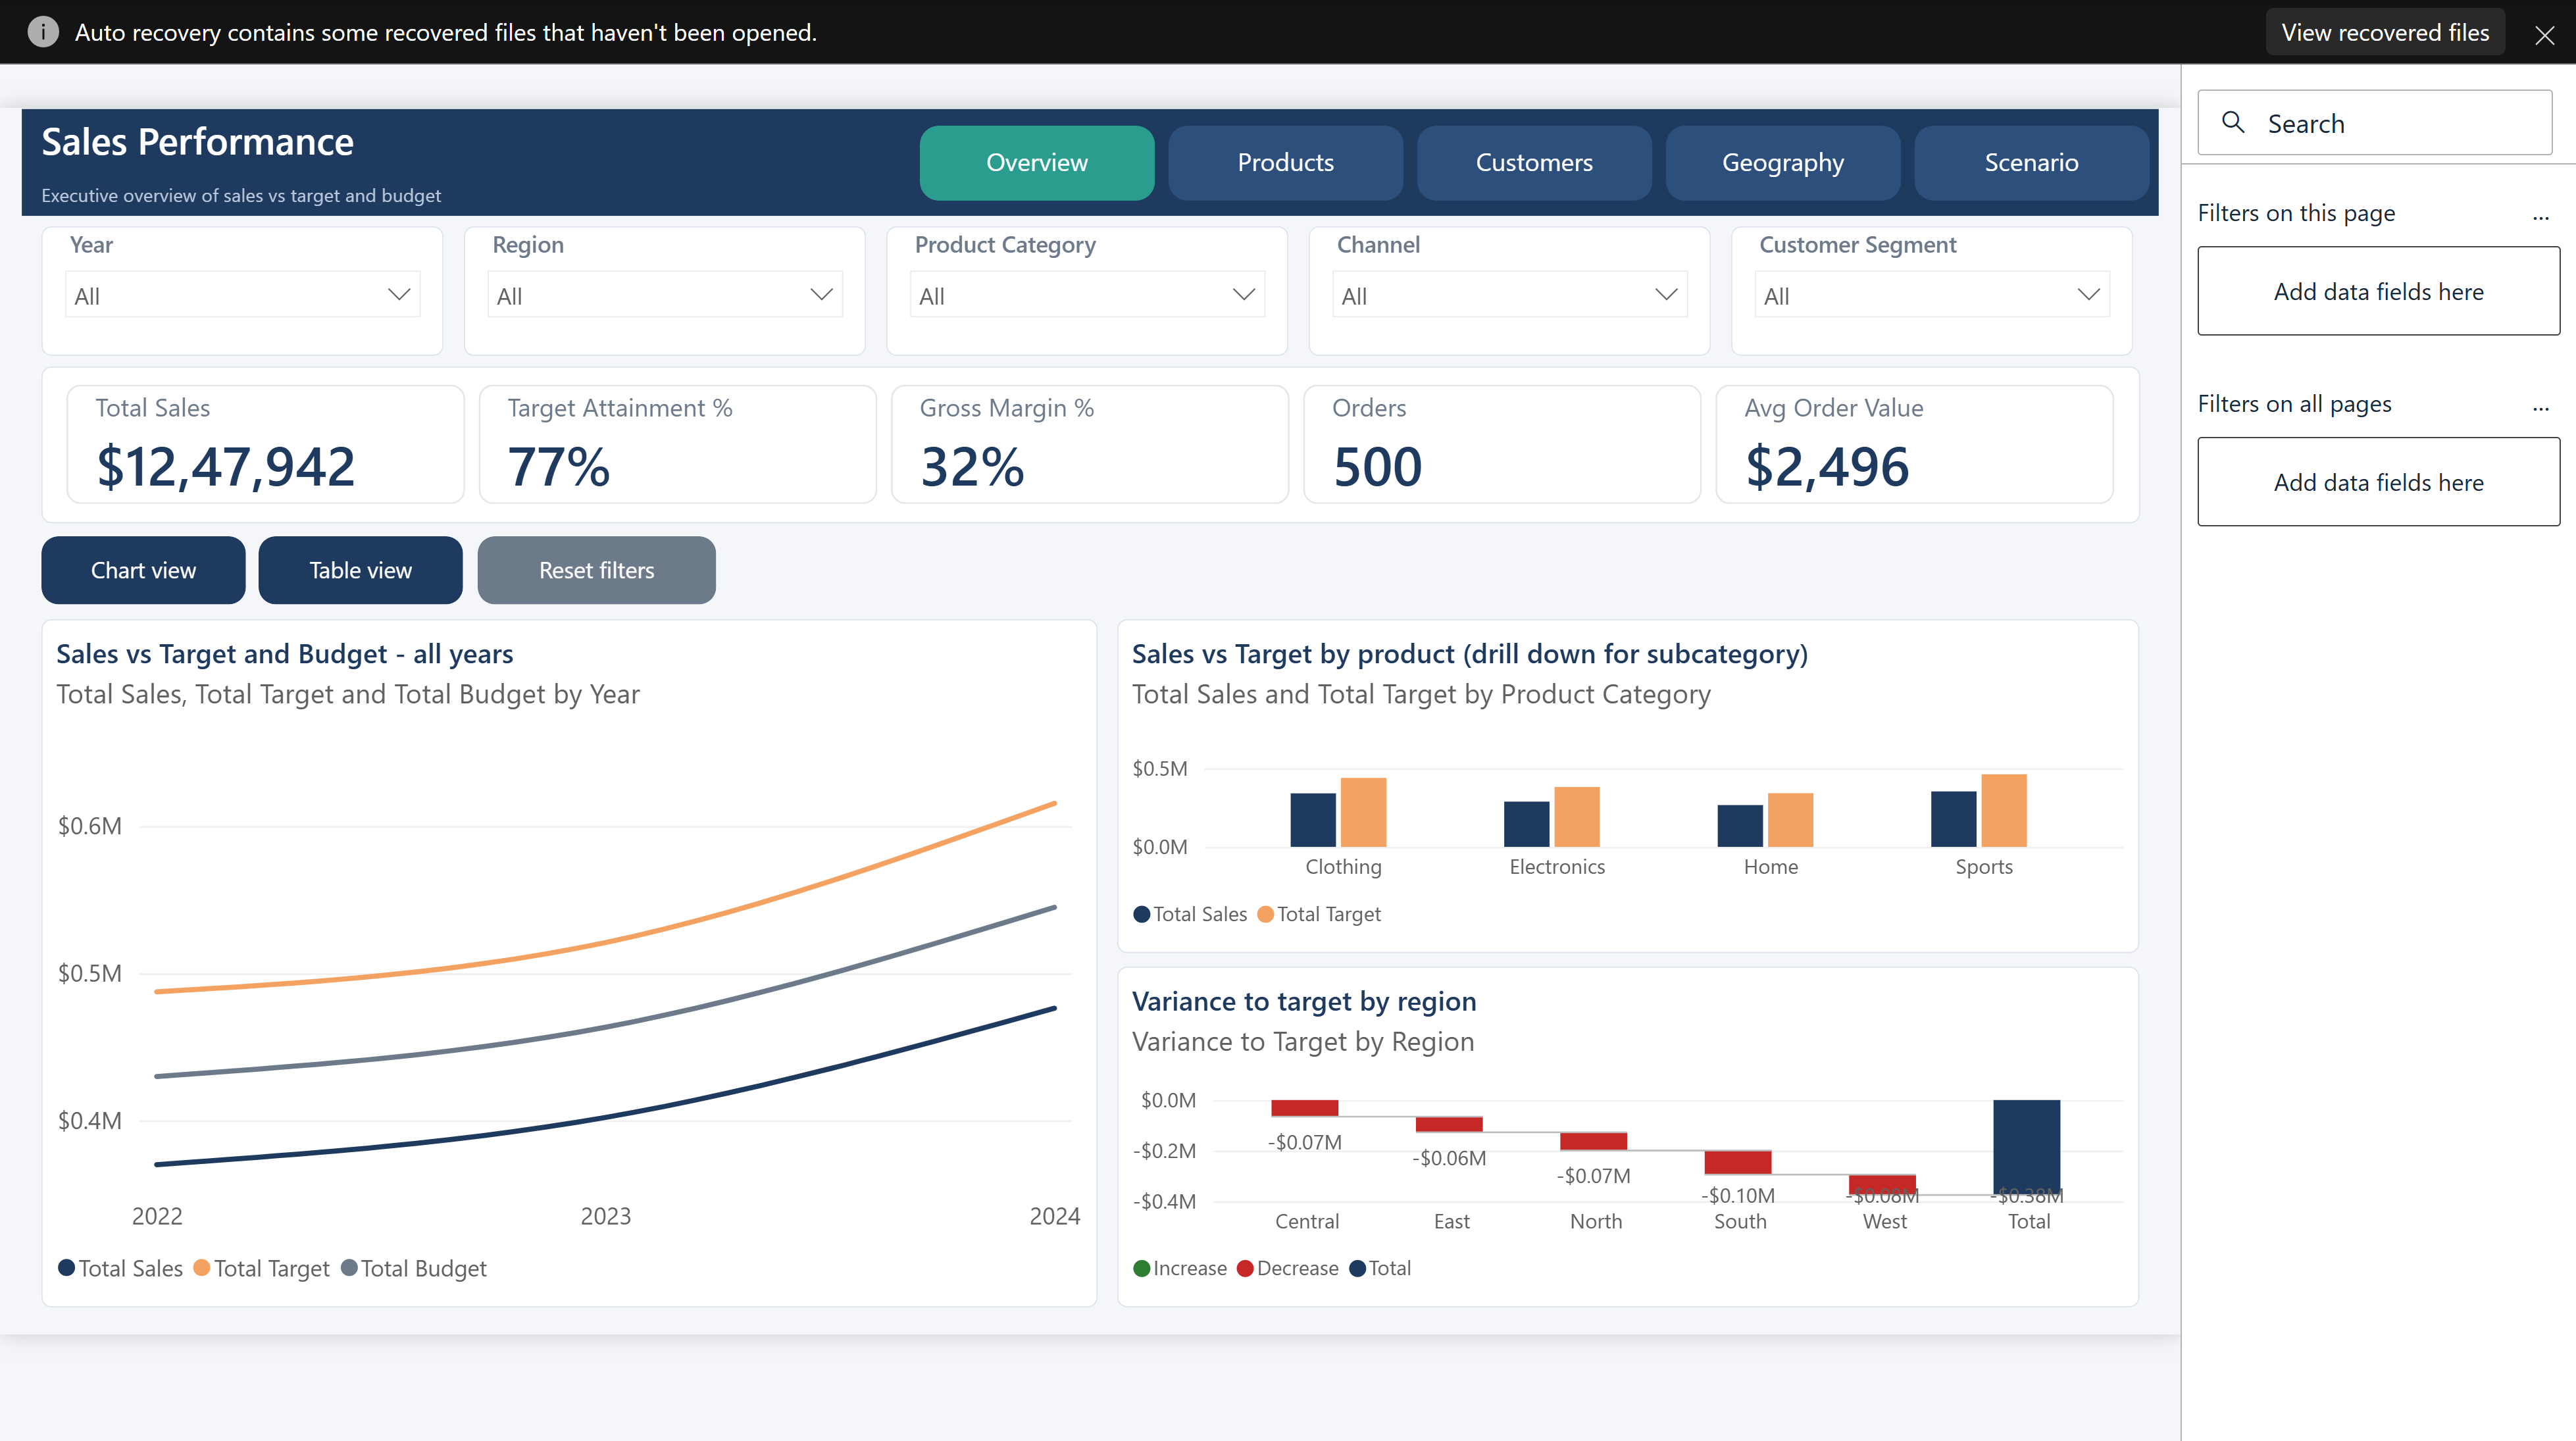

The page's visual inventory and layout, read from the dashboard file:
{"tool":"powerbi","page":{"name":"Sales Overview","canvas":[1280,720],"ordinal":0},"visuals":[{"type":"basicShape","box":[0,0,1280,64],"z":1010},{"type":"textbox","box":[24,4,470,36],"z":1020},{"type":"textbox","box":[24,40,470,22],"z":1030},{"type":"actionButton","box":[540,10,138,44],"z":1040},{"type":"actionButton","box":[686,10,138,44],"z":1050},{"type":"actionButton","box":[832,10,138,44],"z":1060},{"type":"actionButton","box":[978,10,138,44],"z":1070},{"type":"actionButton","box":[1124,10,138,44],"z":1080},{"type":"slicer","fields":{"Values":["Date.Year"]},"box":[24,70,236,76],"z":1090},{"type":"slicer","fields":{"Values":["Sales.Region"]},"box":[272,70,236,76],"z":1100},{"type":"slicer","fields":{"Values":["Sales.Product Category"]},"box":[520,70,236,76],"z":1110},{"type":"slicer","fields":{"Values":["Sales.Channel"]},"box":[768,70,236,76],"z":1120},{"type":"slicer","fields":{"Values":["Sales.Customer Segment"]},"box":[1016,70,236,76],"z":1130},{"type":"cardVisual","fields":{"Data":["Sales.Total Sales","Sales.Target Attainment %","Sales.Gross Margin %","Sales.Orders","Sales.Avg Order Value"]},"box":[24,152,1232,92],"z":1140},{"type":"lineChart","fields":{"Category":["Date.Date Hierarchy.Year","Date.Date Hierarchy.Quarter","Date.Date Hierarchy.Month"],"Y":["Sales.Total Sales","Sales.Total Target","Sales.Total Budget"]},"box":[24,300,620,404],"z":1150},{"type":"clusteredColumnChart","title":"Sales vs Target by product (drill down for subcategory)","fields":{"Category":["Sales.Product Hierarchy.Product Category","Sales.Product Hierarchy.Product Subcategory"],"Y":["Sales.Total Sales","Sales.Total Target"]},"box":[656,300,600,196],"z":1170},{"type":"waterfallChart","title":"Variance to target by region","fields":{"Category":["Sales.Region"],"Y":["Sales.Variance to Target"]},"box":[656,504,600,200],"z":1180},{"type":"actionButton","box":[24,252,120,40],"z":1190},{"type":"actionButton","box":[152,252,120,40],"z":1200},{"type":"actionButton","box":[280,252,140,40],"z":1210}]}

Visuals, with their boxes on the page's 1280x720 design canvas (x1, y1, x2, y2). These are canvas units, not pixel positions in the 2576x1441 screenshot, which may show the page scaled, cropped or inside an application window:
basicShape: (left=0, top=0, right=1280, bottom=64)
textbox: (left=24, top=4, right=494, bottom=40)
textbox: (left=24, top=40, right=494, bottom=62)
actionButton: (left=540, top=10, right=678, bottom=54)
actionButton: (left=686, top=10, right=824, bottom=54)
actionButton: (left=832, top=10, right=970, bottom=54)
actionButton: (left=978, top=10, right=1116, bottom=54)
actionButton: (left=1124, top=10, right=1262, bottom=54)
slicer - Date.Year: (left=24, top=70, right=260, bottom=146)
slicer - Sales.Region: (left=272, top=70, right=508, bottom=146)
slicer - Sales.Product Category: (left=520, top=70, right=756, bottom=146)
slicer - Sales.Channel: (left=768, top=70, right=1004, bottom=146)
slicer - Sales.Customer Segment: (left=1016, top=70, right=1252, bottom=146)
cardVisual - Sales.Total Sales x Sales.Target Attainment %: (left=24, top=152, right=1256, bottom=244)
lineChart - Date.Date Hierarchy.Year x Date.Date Hierarchy.Quarter: (left=24, top=300, right=644, bottom=704)
"Sales vs Target by product (drill down for subcategory)" clusteredColumnChart: (left=656, top=300, right=1256, bottom=496)
"Variance to target by region" waterfallChart: (left=656, top=504, right=1256, bottom=704)
actionButton: (left=24, top=252, right=144, bottom=292)
actionButton: (left=152, top=252, right=272, bottom=292)
actionButton: (left=280, top=252, right=420, bottom=292)
